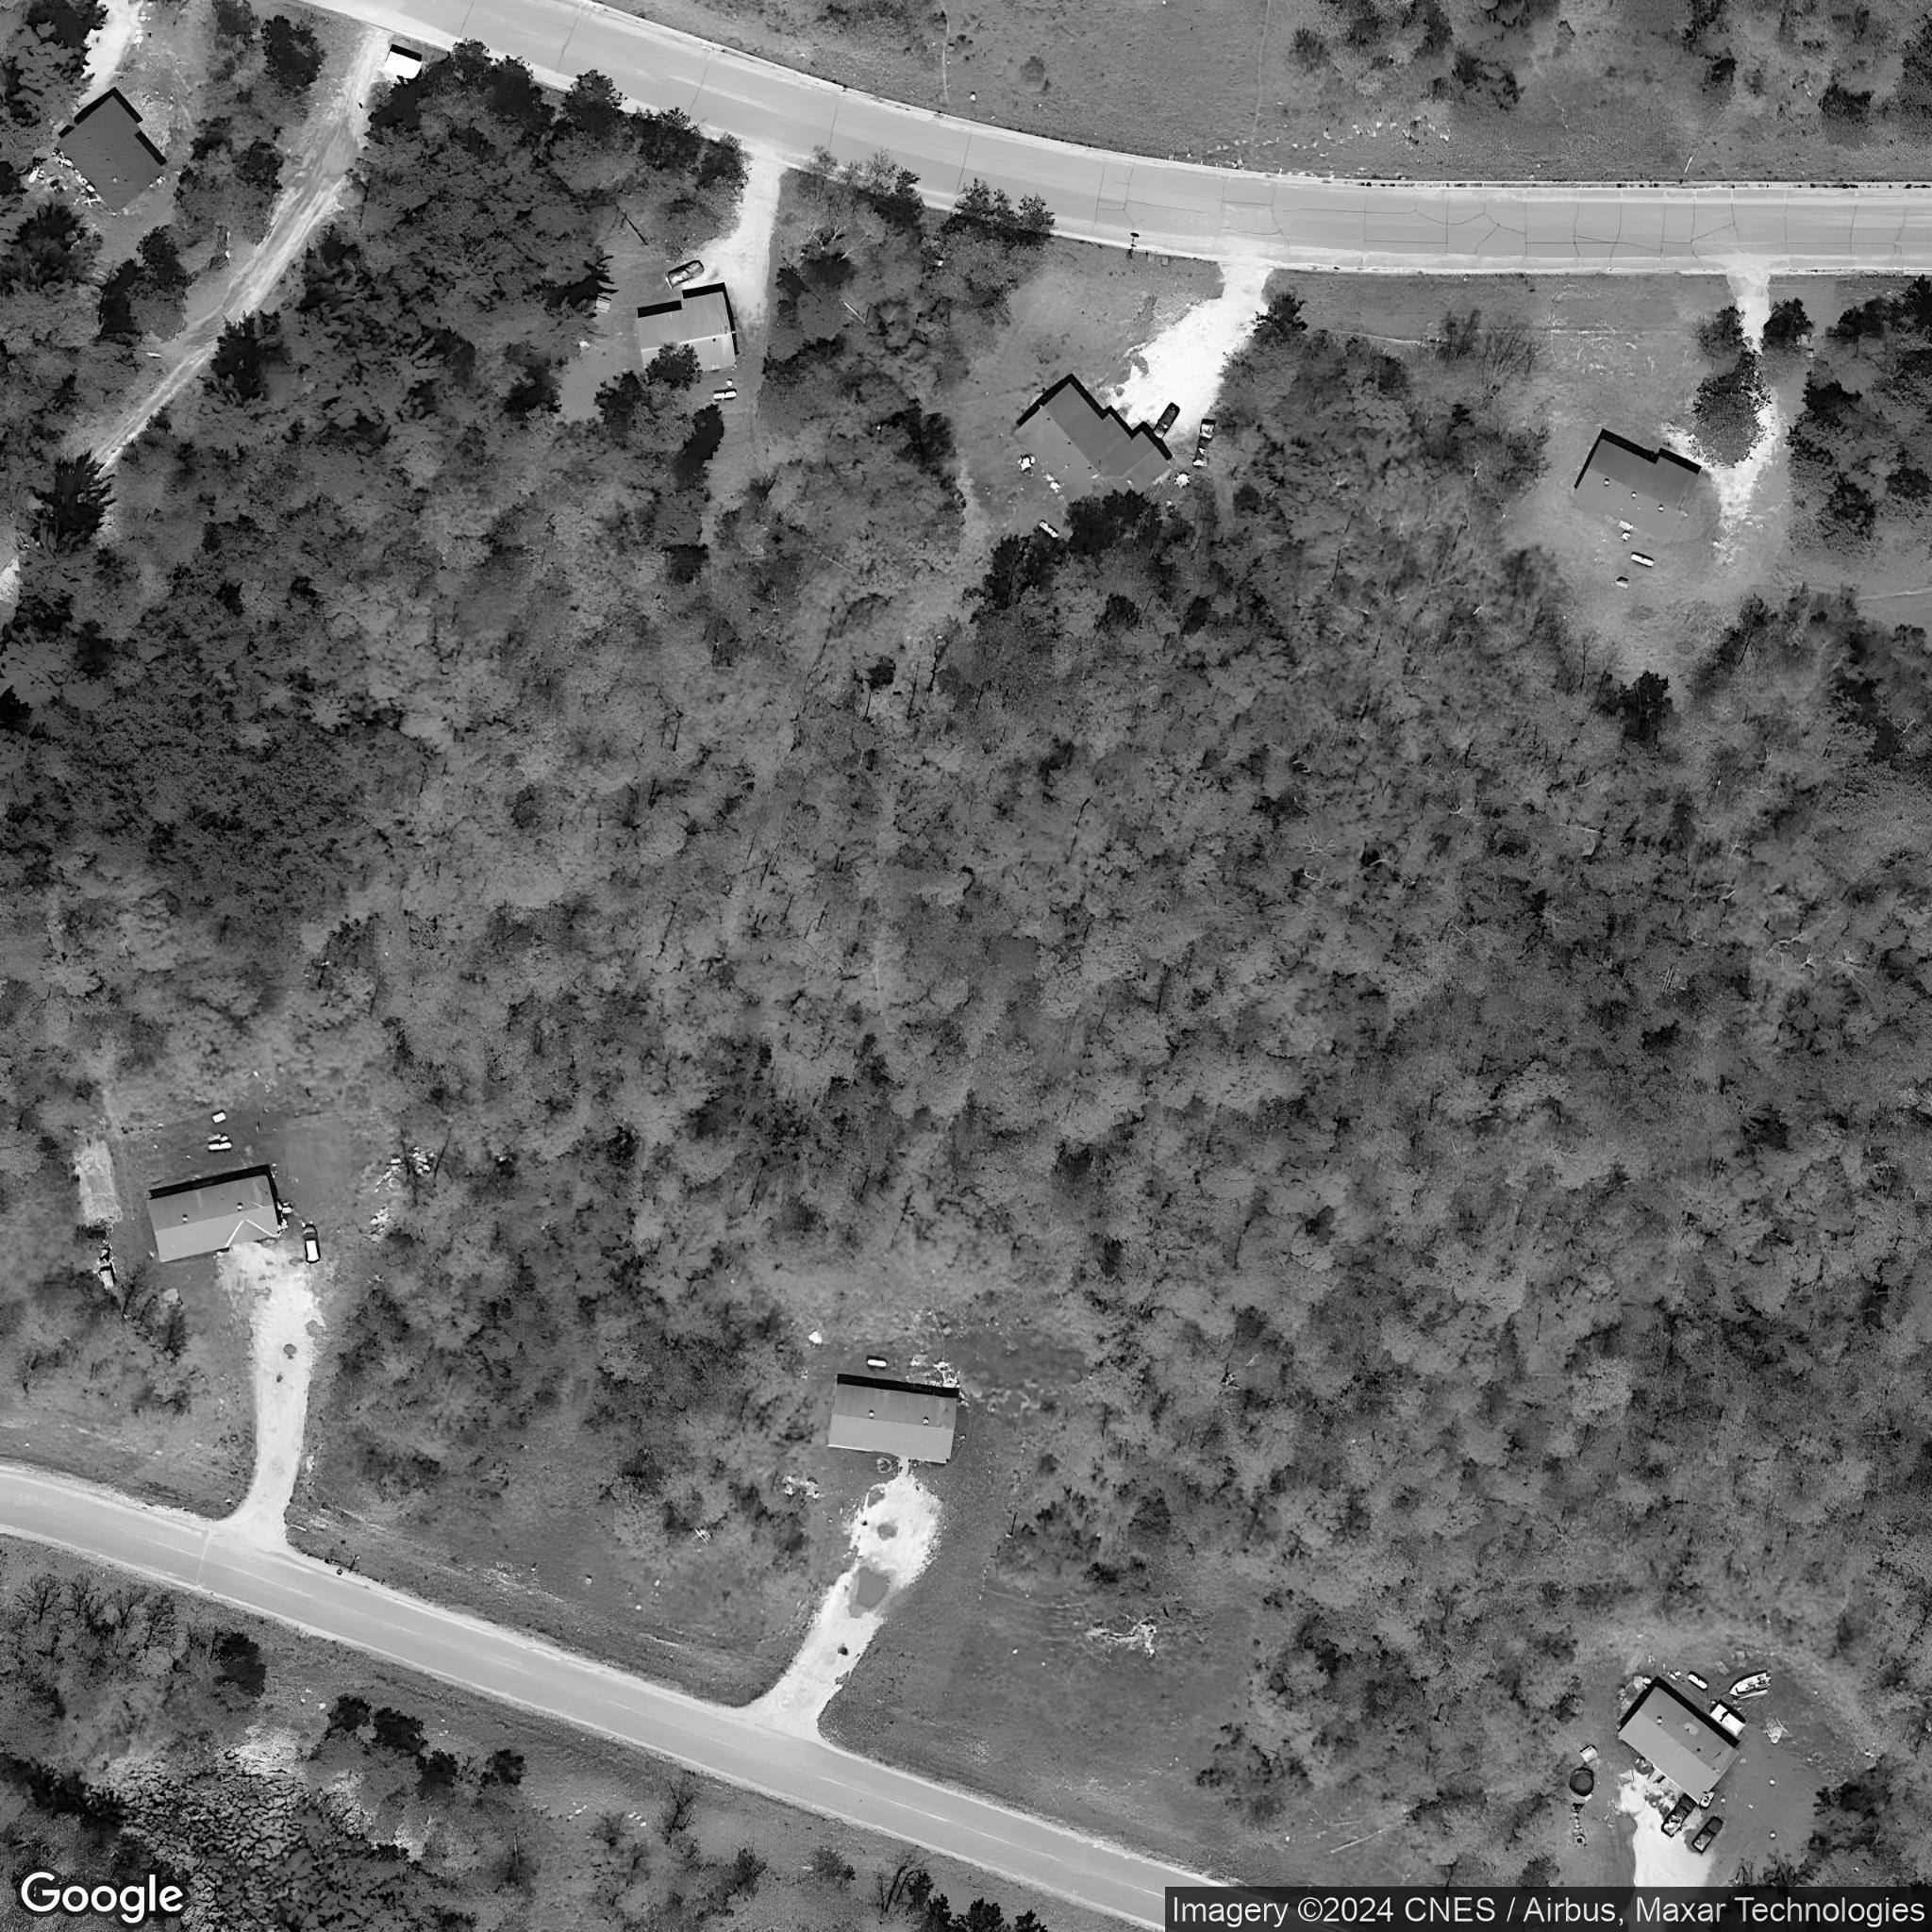House: (1010, 380, 1171, 531), (1612, 1681, 1746, 1813), (1571, 435, 1702, 547), (57, 94, 165, 216), (143, 1171, 281, 1265), (824, 1384, 961, 1468), (633, 290, 736, 384)
Propane: (1033, 515, 1062, 541), (1628, 548, 1658, 571), (1686, 1667, 1713, 1691), (711, 386, 740, 402), (865, 1355, 892, 1369), (205, 1141, 237, 1152)
